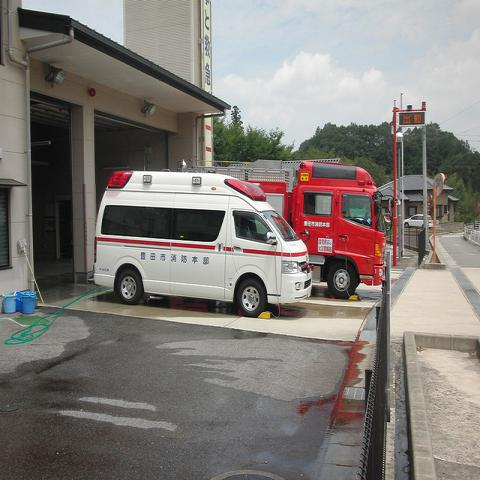car: (404, 214, 434, 228)
truck: (189, 159, 395, 301)
